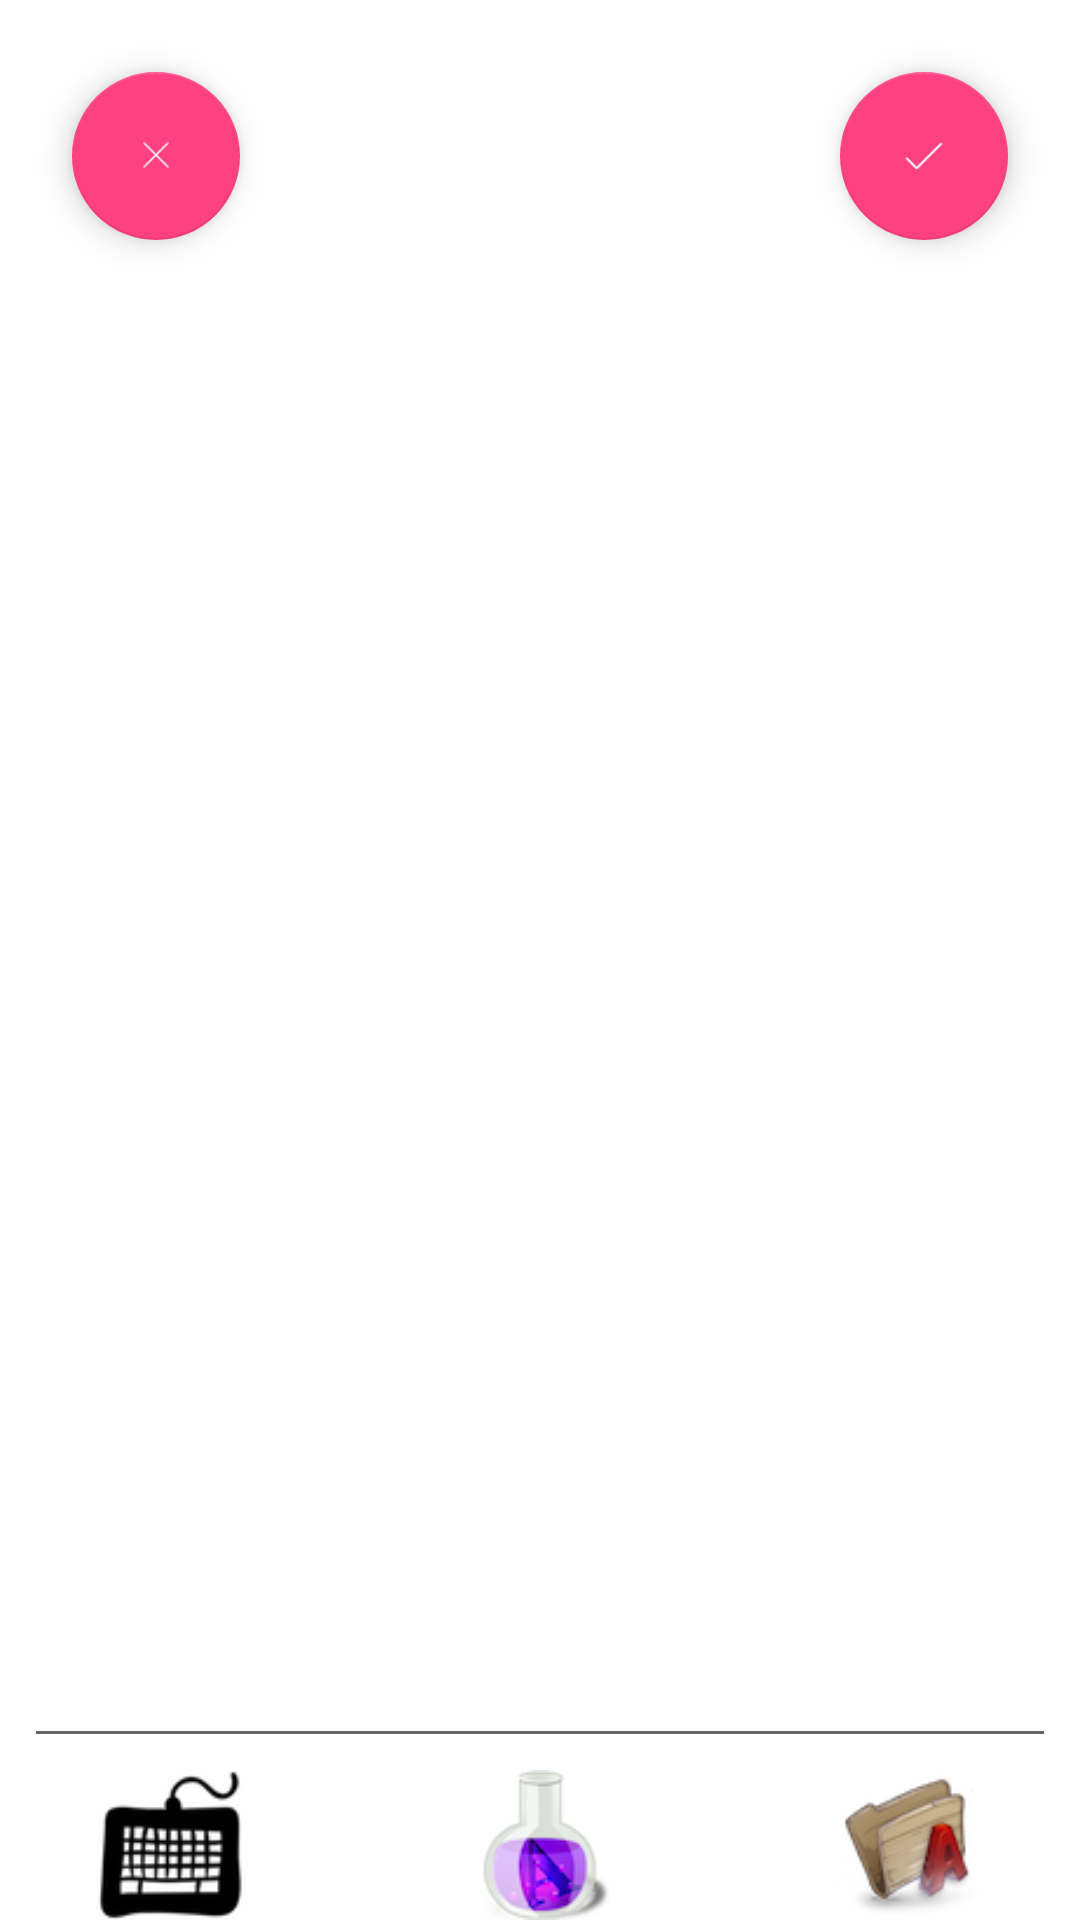

Icons on this 1080 x 1920 Android screen, each with the point to tap as point (x, y):
close bounding: point (156, 156)
done bounding: point (924, 156)
fonts keyboard: point (171, 1845)
